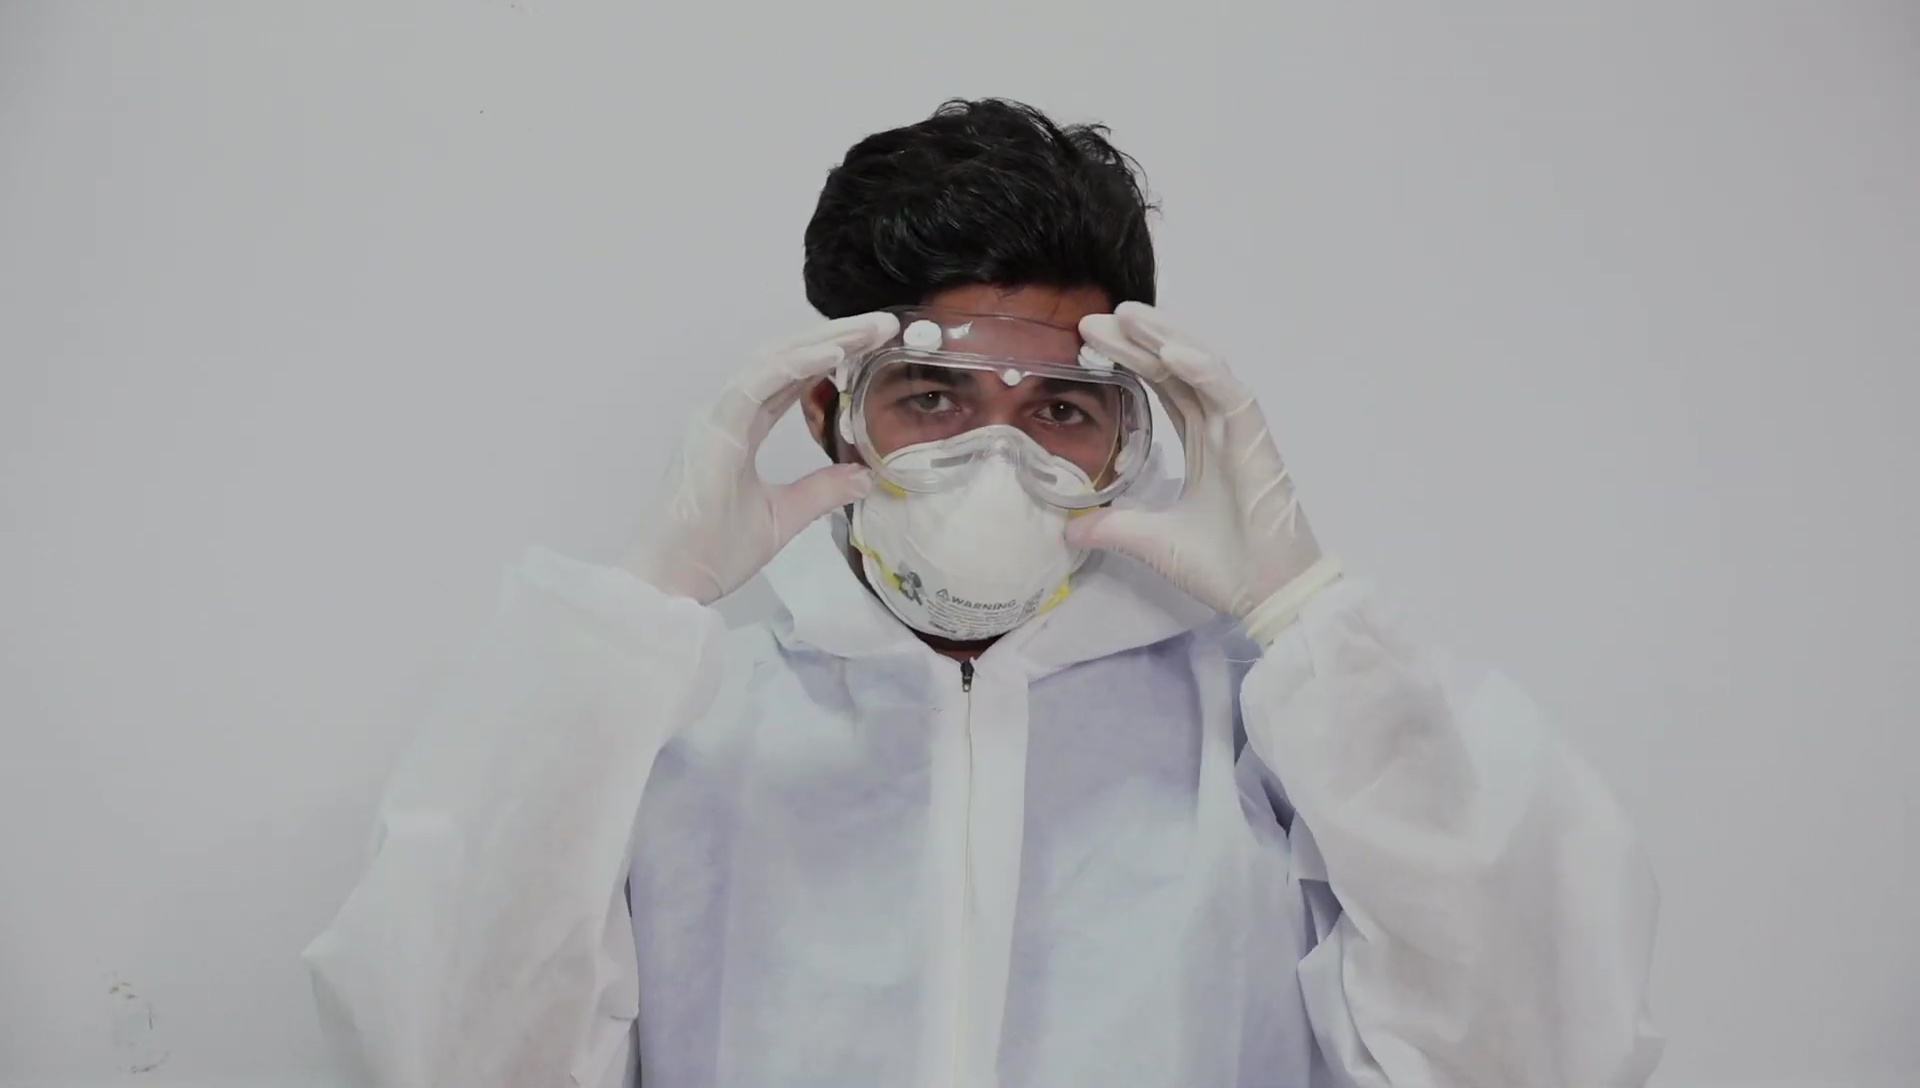Coverall: (305, 565, 1662, 1088)
Gloves: (1061, 300, 1328, 617), (637, 310, 896, 610)
Goggles: (841, 307, 1161, 514)
with_mask: (850, 390, 1116, 642)
